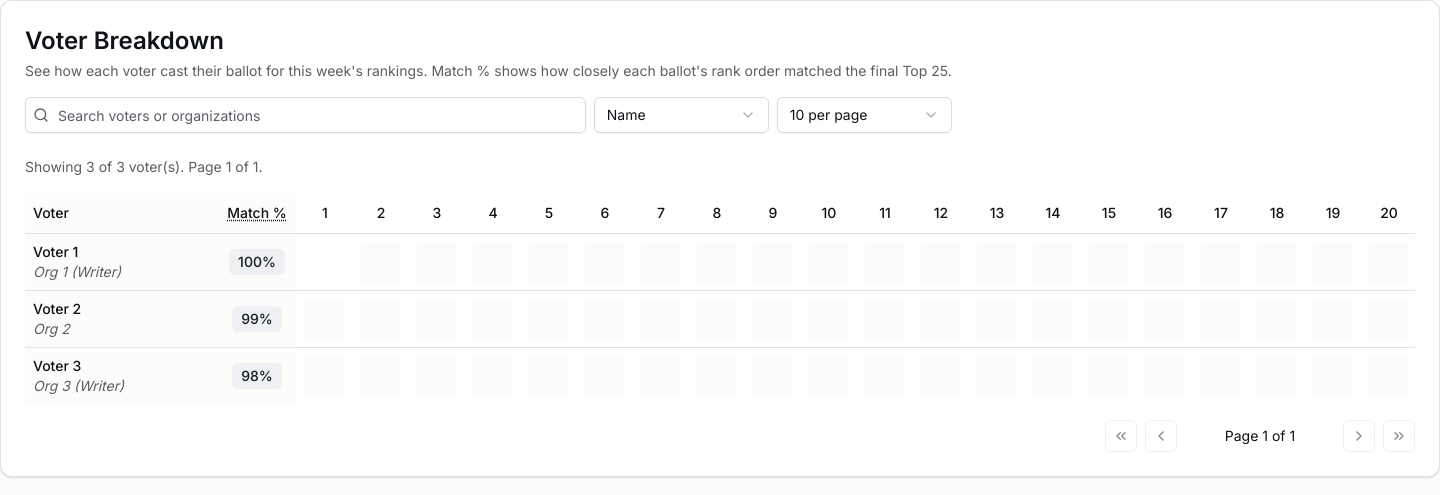
Test: VoterBallotBreakdown › limits page size options for small result sets
Check: the text "Showing 3 of 3 voter(s). Page 1 of 1." is shown, box [25, 158, 263, 175]
What coordinates should you click on to do the following:
click the dropdown labelled "10 per page"
I would click on:
 (864, 115)
Its box is [777, 97, 952, 133].
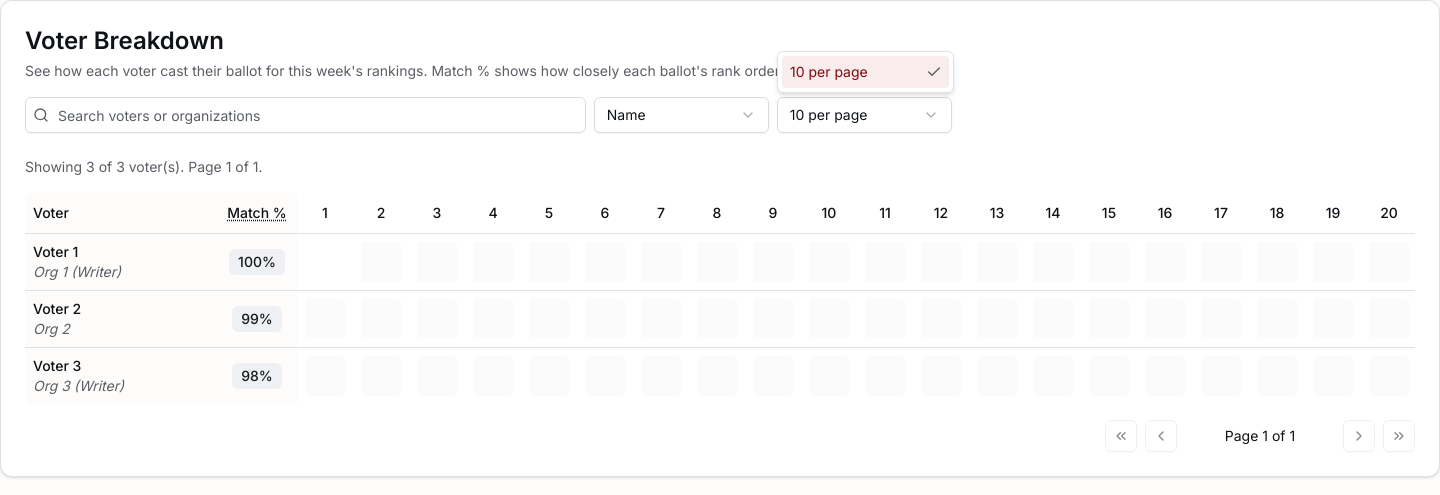
Check: the option "10 per page" is shown, box [782, 56, 949, 88]
